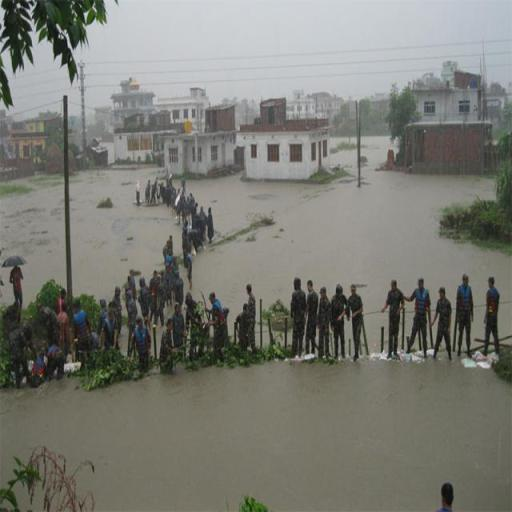flood: (0, 360, 512, 512), (187, 137, 512, 352), (71, 169, 181, 299), (0, 177, 65, 300)
house: (236, 93, 343, 185), (393, 86, 495, 177), (180, 98, 241, 176), (108, 82, 166, 162), (8, 119, 46, 157)
